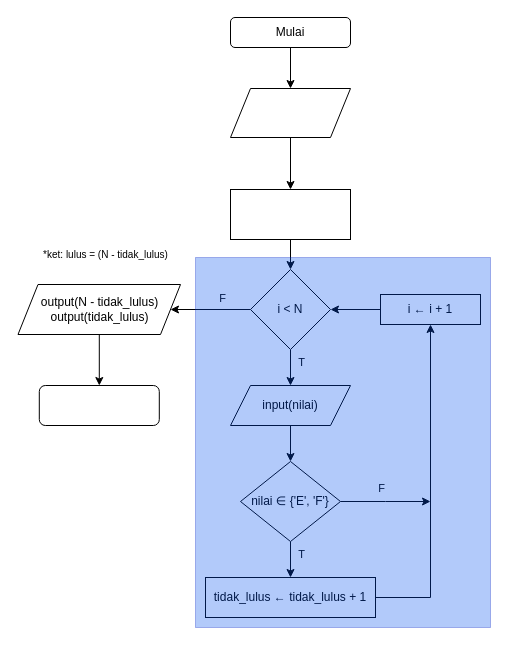
This 508x645 diagram has some shape labels left out. Each missing label, with the centre of its shape:
"input(N)" goes at (290,113).
"Selesai" goes at (98,405).
"tidak_lulus ← 0 i ← 0" goes at (290,214).
